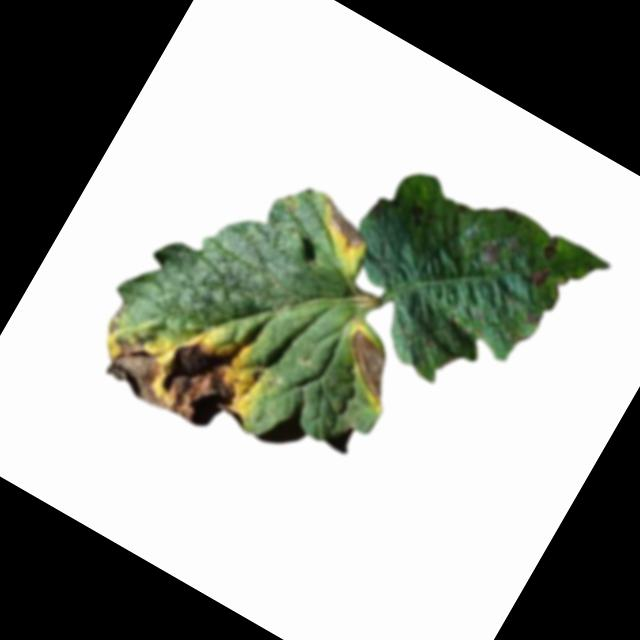Early_blight: (92, 283, 283, 454), (322, 321, 412, 407), (305, 193, 382, 259), (473, 235, 510, 270), (524, 254, 558, 289), (540, 232, 565, 261), (519, 305, 545, 328)
